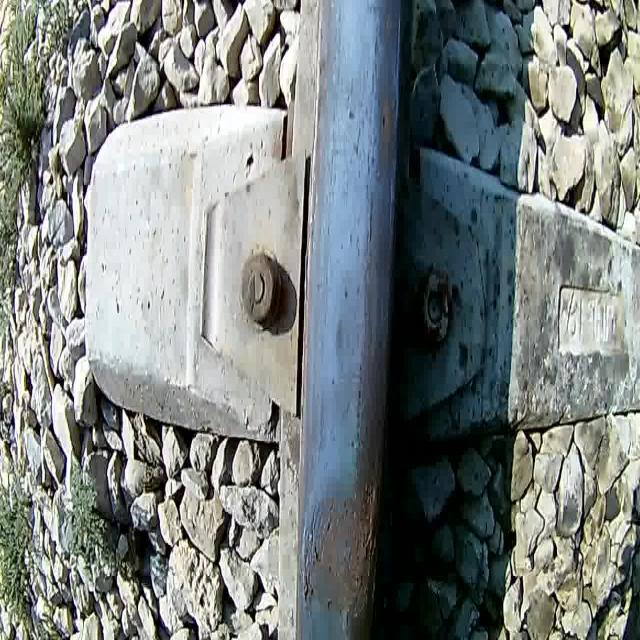Cracks: (302, 492, 336, 616)
Spallings: (358, 508, 383, 577)
Squats: (296, 473, 384, 638), (372, 0, 401, 191)
